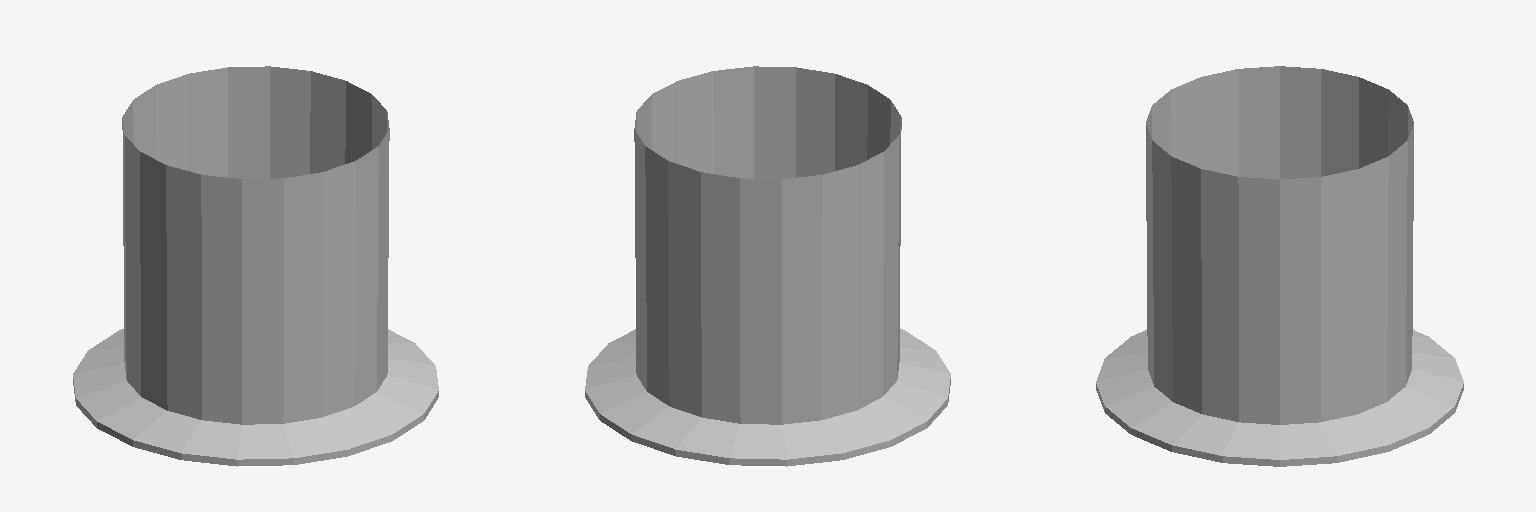
The model's file is com 1.obj.
3 renders of one model, left to right at view 1: azimuth 30°, elevation 25°; view 2: azimuth 150°, elevation 25°; view 3: azimuth 270°, elevation 25°, orthographic.
Parts seen in each view (by area): view 1: group2 screen_2, com_2 group2; view 2: group2 screen_2, com_2 group2; view 3: group2 screen_2, com_2 group2.
Part boxes in pixels (left/top/right/bottom): group2 screen_2: left=122, top=66, right=389, bottom=424; com_2 group2: left=73, top=329, right=438, bottom=466; group2 screen_2: left=634, top=66, right=901, bottom=424; com_2 group2: left=585, top=329, right=950, bottom=466; group2 screen_2: left=1146, top=66, right=1413, bottom=424; com_2 group2: left=1096, top=330, right=1463, bottom=466.
Bounding box in the file's own units: 15.81 × 12.62 × 15.81.